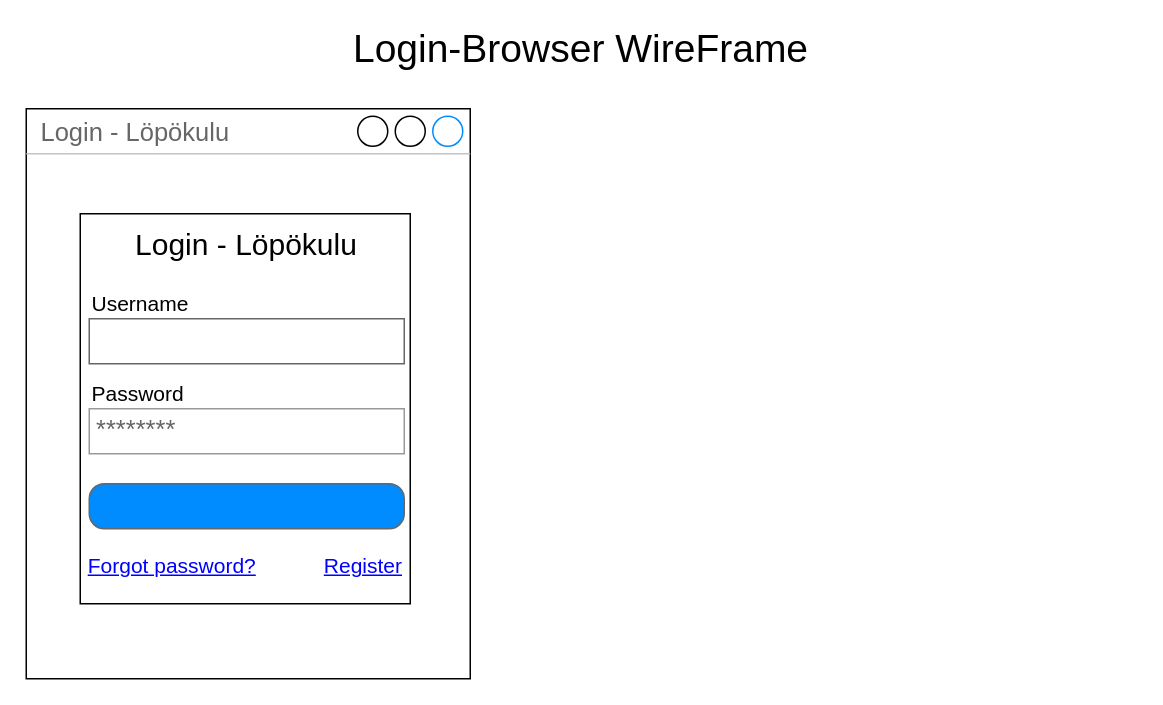
The diagram is 1163 pixels wide and 705 high, and some of its shapes have lost their labels. The centre of each missing label's shape, as x and y in pixels:
Enter your username: the point at 246,340
Login: the point at 246,505
